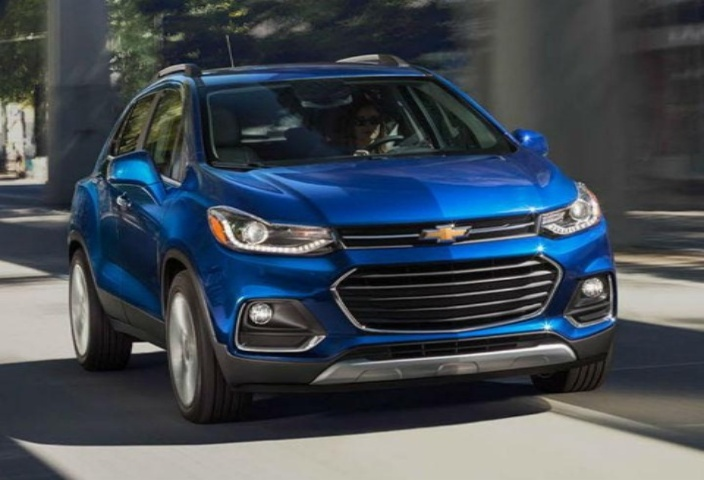camper: (61, 44, 635, 427)
